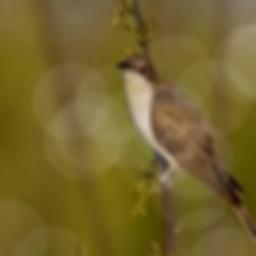Cuckoo: (117, 54, 256, 256)
